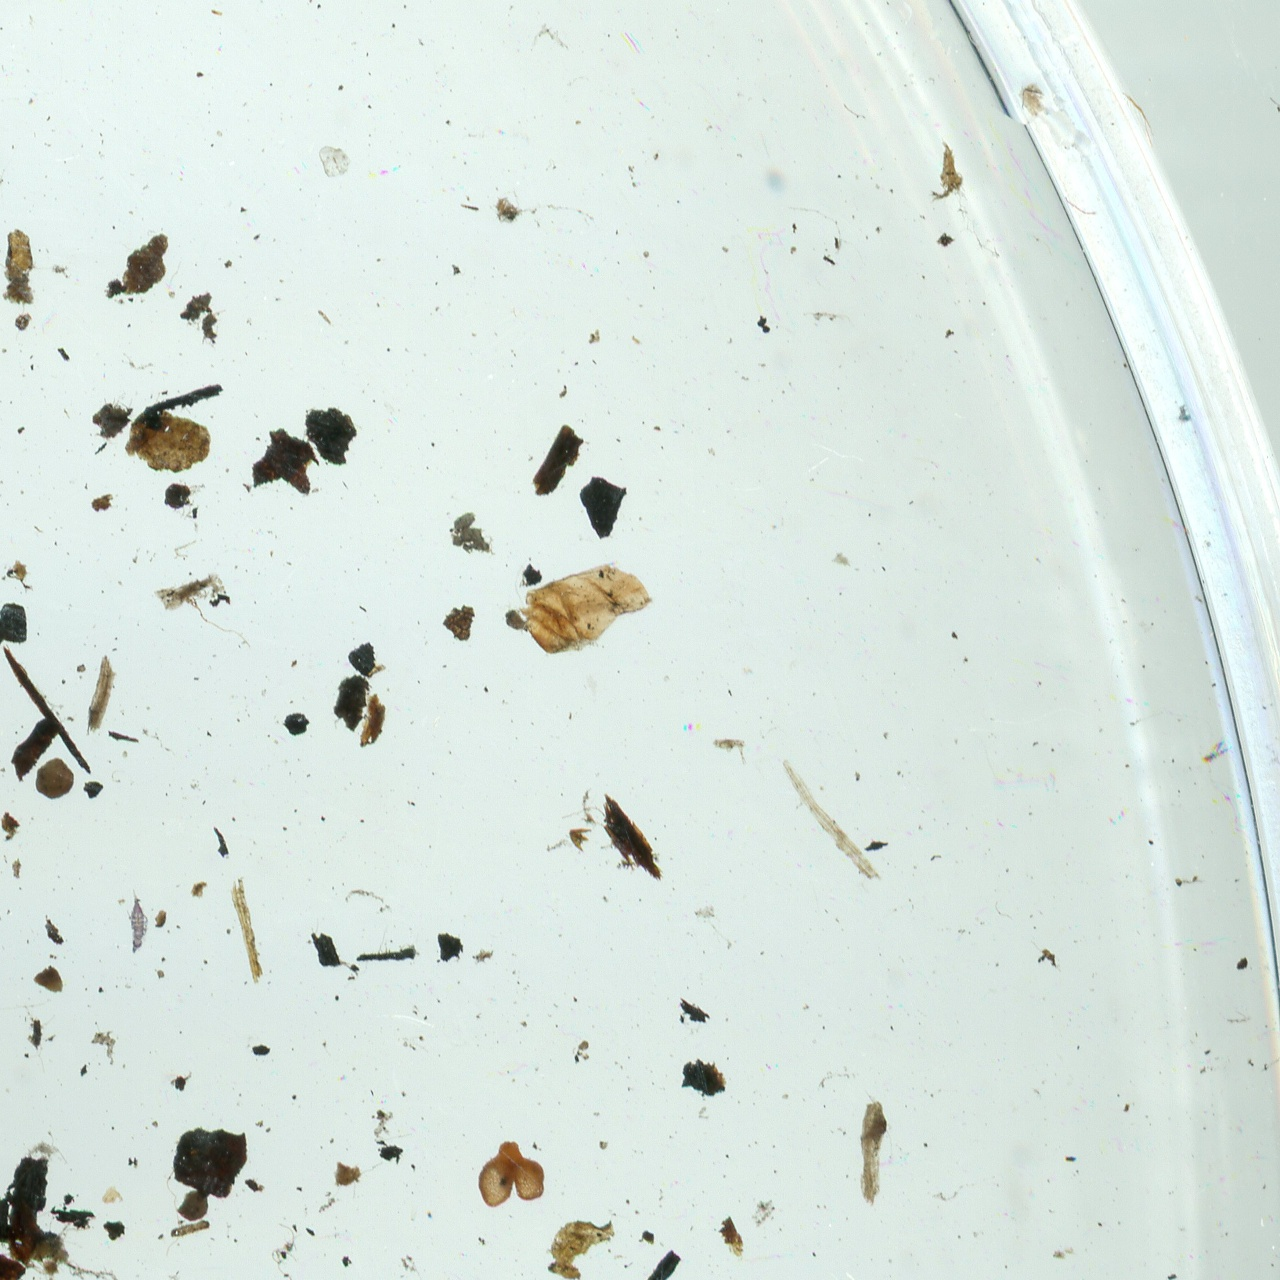arthropod: (129, 888, 149, 953)
